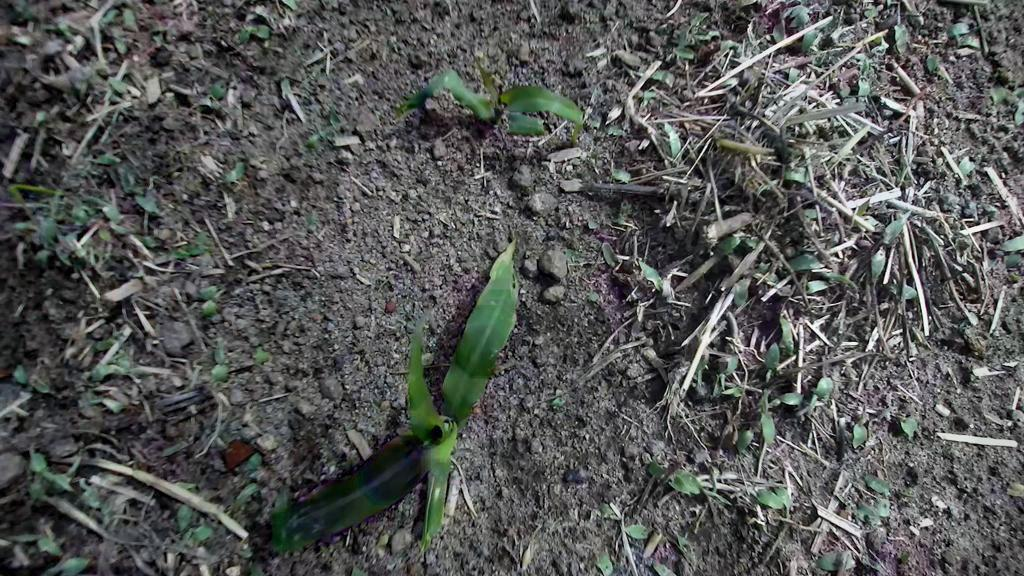BroWeed: (1, 162, 60, 222), (22, 445, 76, 504), (671, 465, 733, 516), (789, 372, 840, 423), (44, 450, 88, 500), (751, 162, 811, 198), (4, 524, 67, 558), (62, 12, 108, 56), (665, 519, 703, 571), (80, 186, 128, 227), (36, 192, 71, 245), (876, 204, 919, 246), (708, 351, 743, 402), (224, 474, 268, 513), (162, 537, 213, 569), (28, 34, 67, 74), (851, 197, 887, 239), (754, 388, 780, 446), (861, 401, 900, 439), (125, 180, 163, 218), (110, 158, 148, 196), (730, 416, 766, 456), (91, 321, 128, 359), (893, 405, 926, 447), (796, 15, 828, 56), (850, 498, 888, 532), (803, 272, 858, 295), (593, 239, 630, 273), (636, 255, 668, 294), (809, 551, 856, 576), (754, 390, 806, 412), (95, 378, 133, 408), (40, 556, 95, 576), (88, 390, 128, 417), (783, 250, 827, 274), (88, 358, 130, 383), (752, 485, 788, 514), (860, 471, 896, 500), (882, 277, 919, 305), (663, 118, 686, 163), (711, 228, 743, 260), (382, 524, 415, 555), (650, 64, 686, 92), (106, 211, 137, 243), (220, 159, 250, 192), (29, 239, 59, 272), (68, 472, 98, 505), (602, 159, 636, 188), (159, 434, 196, 460), (168, 502, 198, 534), (63, 227, 92, 260), (210, 337, 231, 382), (32, 525, 61, 557), (729, 270, 754, 307), (67, 200, 96, 230), (49, 238, 78, 268), (251, 1, 280, 31), (203, 76, 231, 106), (132, 227, 163, 254), (762, 340, 781, 383), (667, 472, 697, 499), (96, 5, 120, 38), (148, 17, 172, 50), (771, 481, 798, 510), (601, 99, 628, 128), (104, 76, 129, 107), (198, 278, 230, 302), (96, 491, 117, 527), (852, 402, 868, 449), (643, 555, 678, 576), (239, 450, 266, 477), (954, 151, 981, 178), (590, 548, 616, 576), (633, 83, 661, 109), (694, 348, 713, 386), (145, 222, 177, 244), (693, 24, 725, 46), (870, 244, 887, 285), (53, 14, 76, 44), (622, 519, 652, 542), (240, 24, 271, 46), (610, 48, 644, 68), (52, 228, 76, 256), (183, 526, 215, 547), (26, 473, 49, 502), (744, 259, 773, 282), (108, 345, 134, 370), (787, 9, 812, 35), (983, 87, 1017, 106), (777, 315, 793, 355), (716, 36, 745, 58), (119, 4, 140, 34), (124, 365, 154, 386), (856, 55, 871, 97), (196, 297, 222, 321), (65, 33, 89, 58), (943, 19, 972, 39), (44, 119, 78, 136), (83, 490, 107, 514), (373, 529, 391, 561), (1000, 229, 1024, 253), (687, 6, 713, 28), (866, 34, 890, 57), (893, 22, 910, 54), (613, 199, 633, 226), (653, 16, 677, 38), (645, 460, 669, 481), (705, 462, 721, 493), (84, 153, 122, 166), (952, 31, 981, 48), (773, 2, 785, 43), (958, 306, 982, 326), (275, 76, 295, 100), (1013, 85, 1024, 128), (592, 508, 621, 524), (324, 108, 343, 131), (172, 247, 207, 259), (96, 471, 126, 485), (799, 208, 827, 223), (666, 47, 696, 61), (44, 102, 63, 124), (924, 49, 940, 75), (720, 383, 746, 399), (803, 62, 827, 79), (111, 31, 129, 53), (751, 271, 779, 285), (197, 95, 221, 111), (597, 499, 616, 519), (719, 74, 741, 91), (897, 548, 915, 568), (863, 556, 884, 573), (94, 225, 116, 241), (678, 23, 692, 48), (862, 4, 885, 19), (14, 220, 40, 233), (7, 34, 35, 46), (32, 108, 48, 129), (800, 71, 818, 89), (549, 395, 566, 414), (20, 384, 51, 394), (606, 123, 628, 137), (14, 363, 28, 384), (876, 499, 892, 517), (848, 50, 866, 66), (194, 231, 209, 250), (832, 76, 847, 95), (172, 480, 200, 490), (585, 285, 600, 303), (837, 84, 853, 100), (783, 68, 800, 83), (811, 31, 822, 54), (237, 546, 255, 560), (245, 5, 260, 21), (256, 346, 269, 364), (42, 23, 61, 35), (825, 70, 839, 86), (305, 132, 319, 148), (7, 23, 24, 36), (588, 116, 603, 130), (350, 565, 369, 576), (728, 255, 741, 271), (101, 41, 117, 53), (305, 209, 317, 225), (169, 168, 183, 181), (840, 95, 857, 105), (742, 239, 757, 249), (195, 103, 208, 113), (0, 368, 12, 378), (995, 249, 1004, 258), (241, 542, 249, 550), (649, 98, 657, 105), (556, 388, 562, 396)
Maize: (244, 221, 617, 576), (394, 34, 594, 157)
